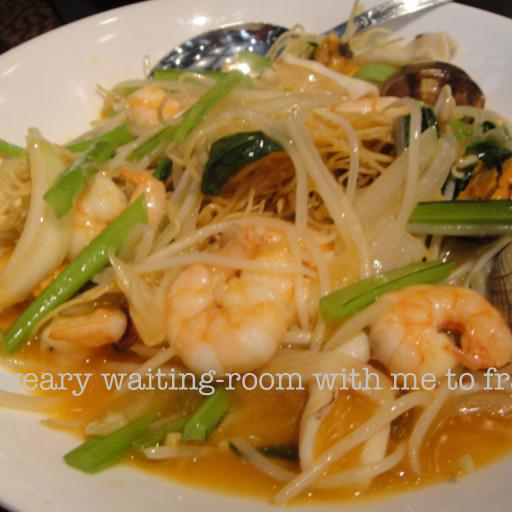American Typewriter: (0, 367, 512, 396)
